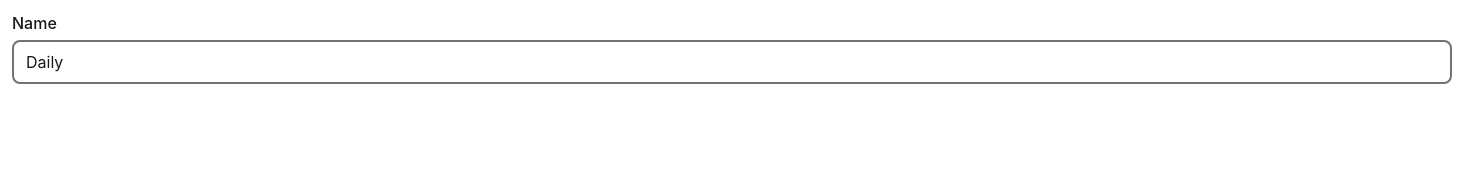
Test: TextInput › starts with its stored value and takes what the owner types
The width and height of the screenshot is (1464, 172).
Type " Hoops" into the field labelled "Name" at (732, 62), box [12, 40, 1452, 84]
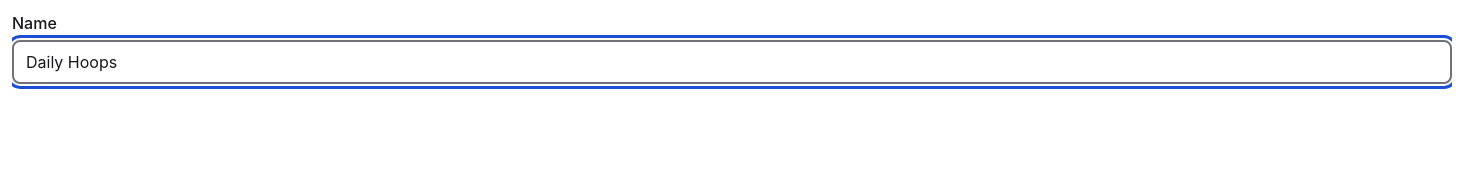
Check: the field labelled "Name" holds "Daily Hoops", box [12, 40, 1452, 84]
